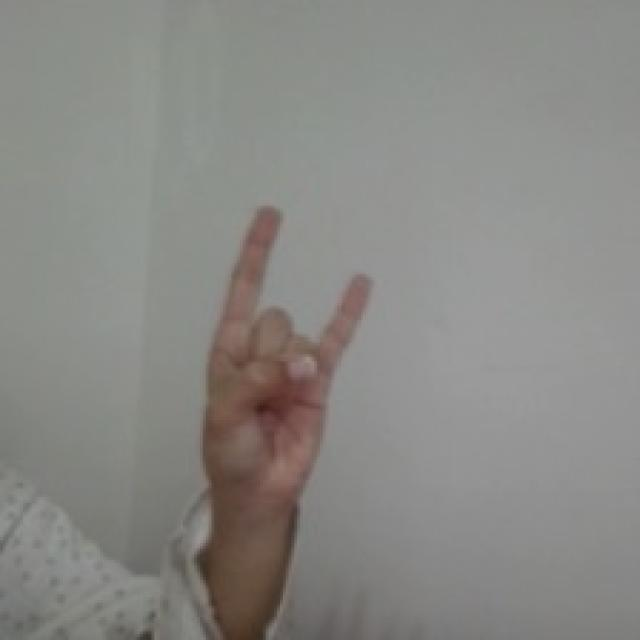No: (191, 200, 377, 514)
